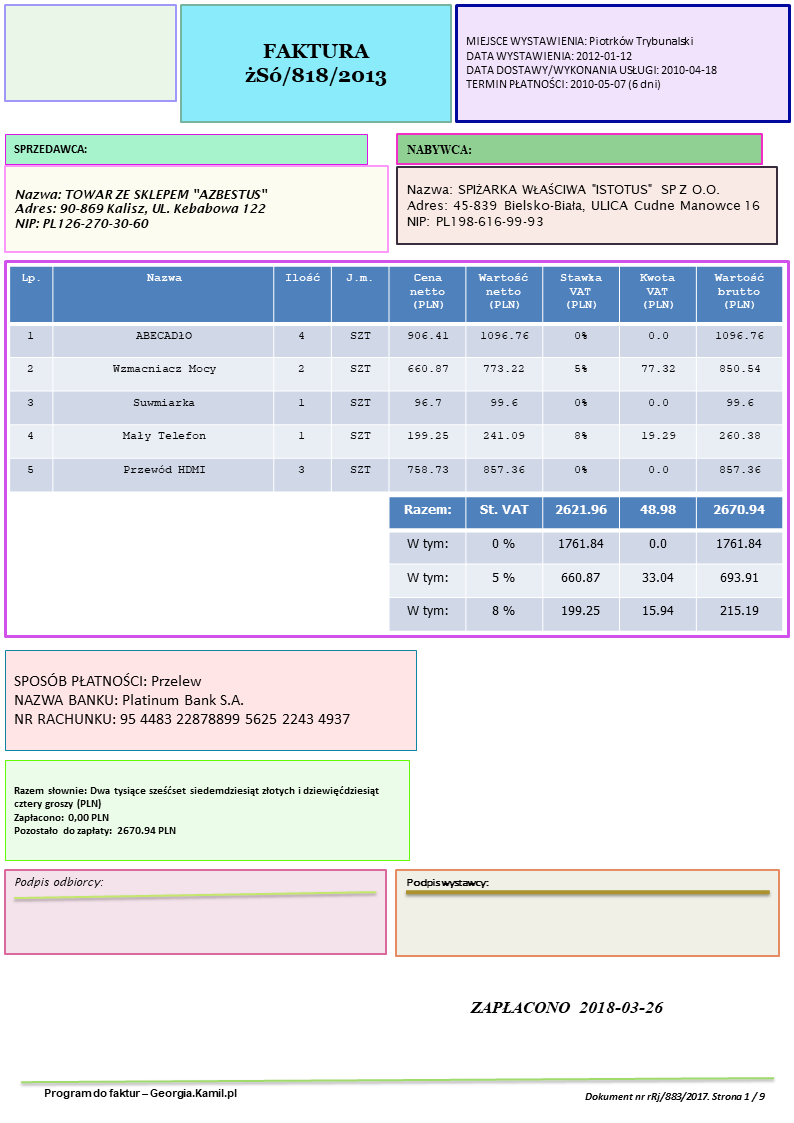Table: (8, 265, 784, 493), (387, 496, 783, 631)
TextBox: (12, 669, 353, 729), (11, 784, 381, 837), (403, 182, 762, 230), (463, 31, 719, 93), (12, 187, 268, 231), (241, 40, 390, 89), (466, 997, 666, 1017), (42, 1084, 239, 1101), (583, 1089, 767, 1106), (11, 874, 106, 892), (404, 876, 489, 891), (10, 141, 89, 157), (404, 142, 473, 158)
